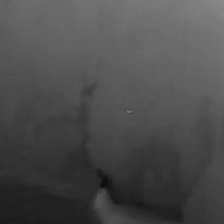Target: (124, 109, 133, 114)
